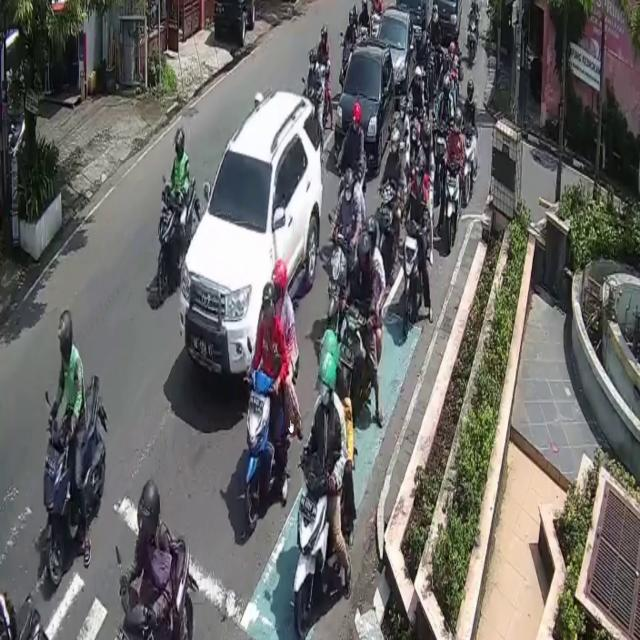car: (192, 80, 328, 374), (334, 39, 395, 177), (374, 5, 417, 107)
motorbike: (44, 374, 108, 589), (295, 455, 338, 639), (118, 538, 192, 640), (156, 176, 198, 299), (244, 366, 275, 526), (402, 217, 424, 339), (329, 227, 348, 346), (443, 156, 460, 244), (464, 122, 475, 198)
